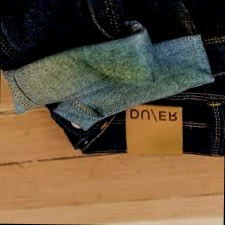earth: (97, 65, 145, 84)
